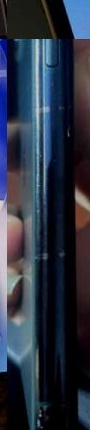scratch: (57, 87, 82, 145), (31, 239, 75, 269), (30, 139, 60, 168)
